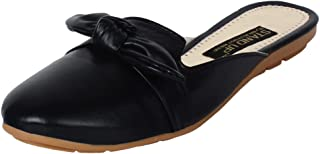shoes: (1, 1, 320, 154)
